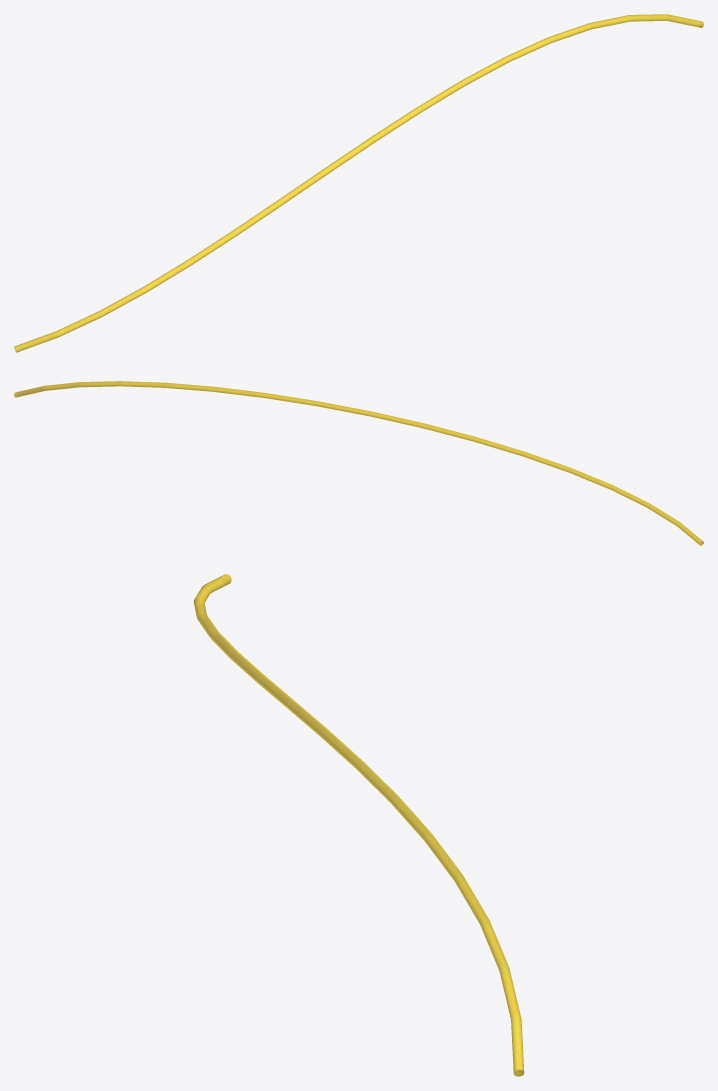
Rendered from Event_31209032_track_32.fbx.
The picture shows the model from 3 angles, top to bottom: view 1: azimuth 30°, elevation 25°; view 2: azimuth 150°, elevation 25°; view 3: azimuth 270°, elevation 25°; orthographic projection. The views are drawn at different scales.
Visible parts, largest first — view 1: Model; view 2: Model; view 3: Model.
Boxes of the visible parts, left/top/right/bottom form: Model: left=14, top=14, right=703, bottom=352; Model: left=14, top=381, right=703, bottom=545; Model: left=193, top=574, right=524, bottom=1076.
Size of the model in its own units: 5.35 by 0.7424 by 1.25.
